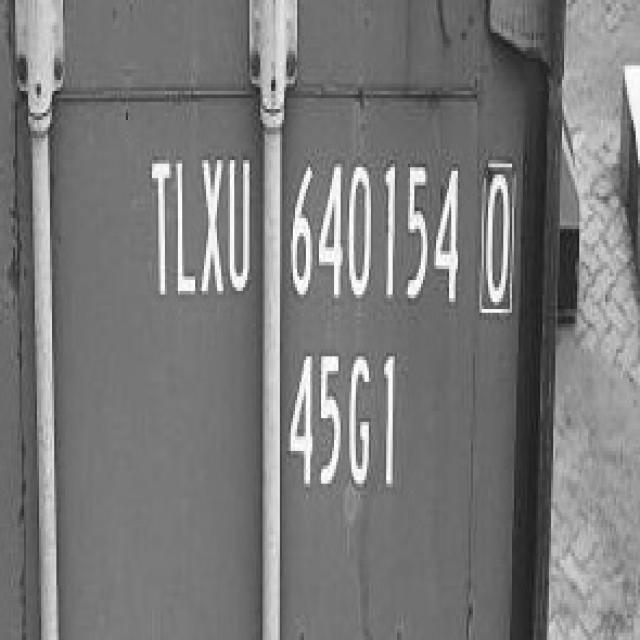dv: (474, 144, 522, 328)
owner: (143, 140, 255, 312)
serial: (286, 150, 464, 320)
size: (286, 342, 408, 501)
